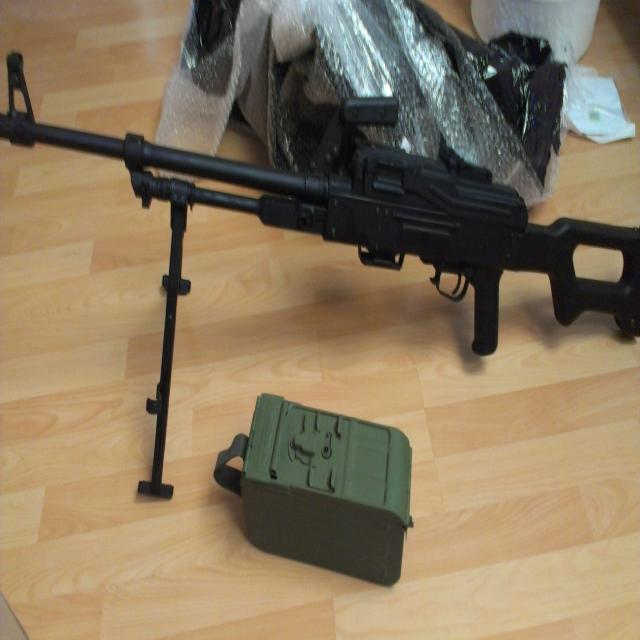firearm: (0, 49, 640, 502)
